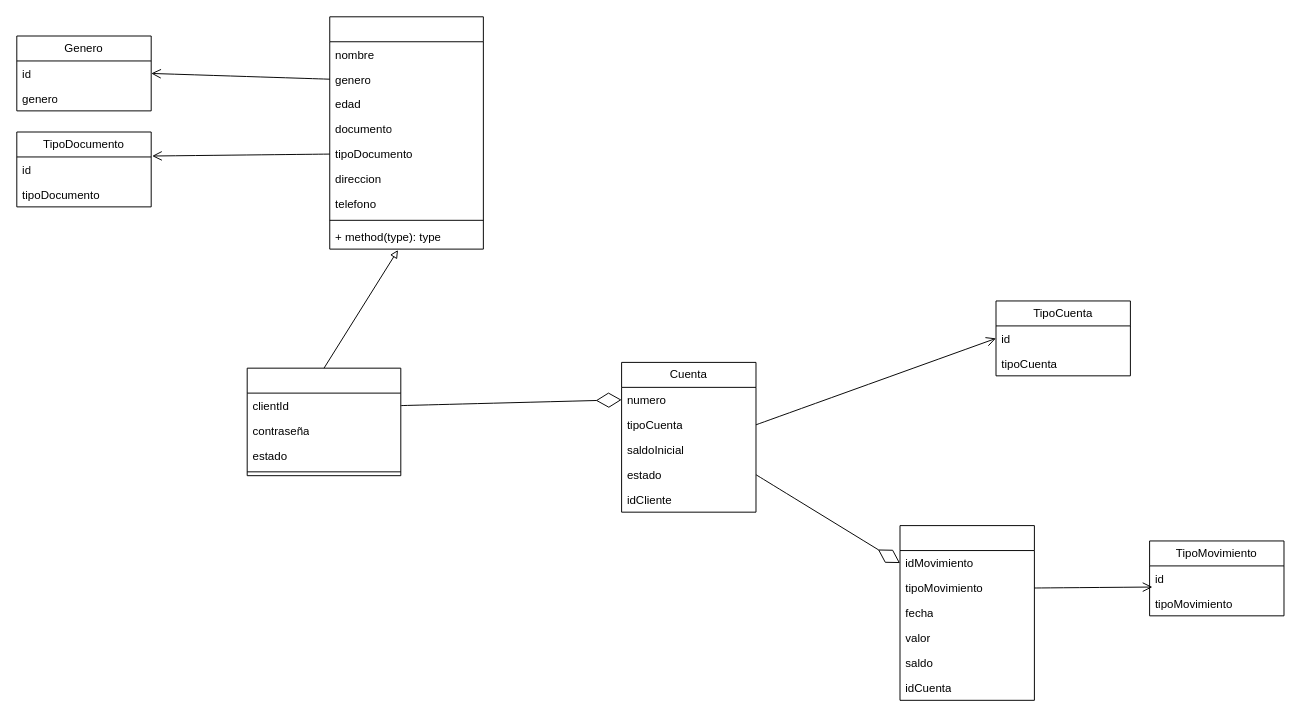
The diagram is 1301 pixels wide and 720 high, and some of its shapes have lost their labels. The shapes that lost their labels are listed below. From the top down, each one's box as (x1, y1, x2, y2) in pixels, then its label:
(329, 16, 483, 249): Persona
(246, 367, 401, 476): Cliente
(899, 525, 1034, 700): Movimientos
